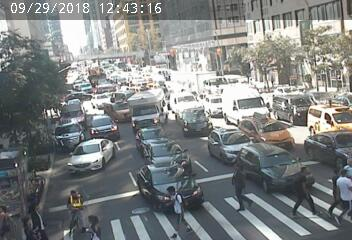car: (238, 144, 302, 193), (143, 164, 202, 204), (310, 98, 348, 140), (313, 135, 349, 172), (147, 140, 187, 167), (135, 123, 175, 149), (246, 116, 282, 144), (225, 94, 263, 120), (211, 129, 244, 158), (78, 141, 109, 170), (132, 93, 159, 126), (276, 95, 309, 120), (179, 110, 208, 138), (60, 99, 91, 125), (57, 129, 84, 152), (202, 91, 229, 114), (87, 112, 112, 136), (171, 91, 198, 109), (108, 99, 129, 119), (80, 80, 92, 92)
